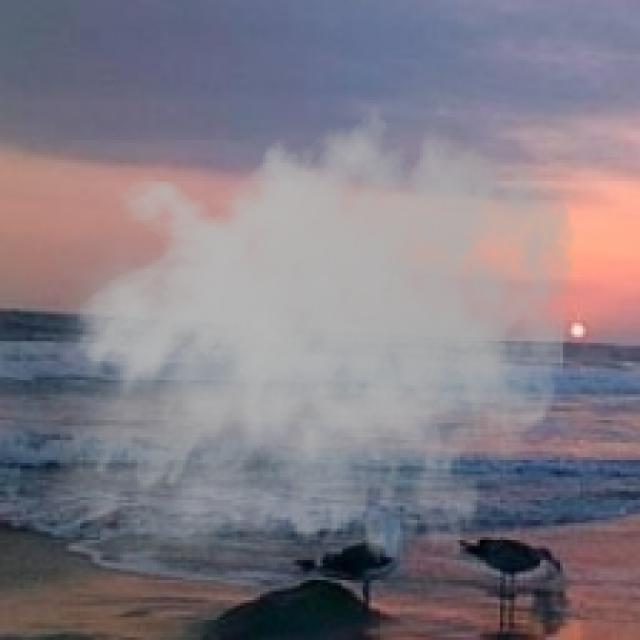Smoke: (25, 91, 578, 623)
